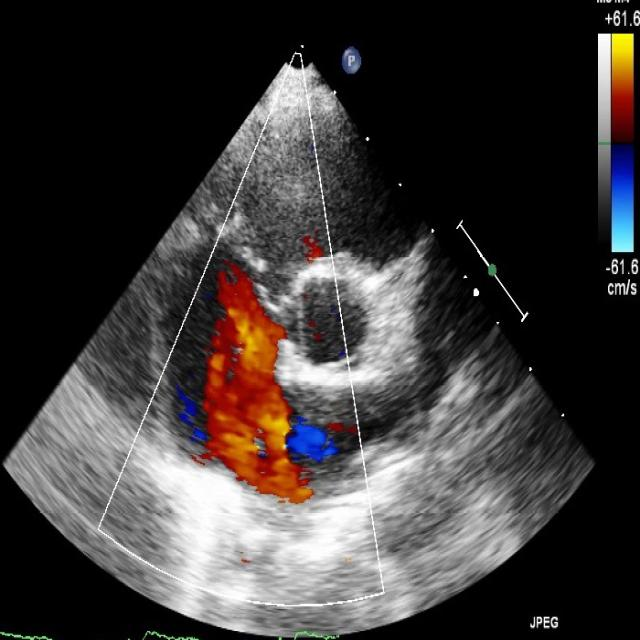ASDType2: (192, 344, 314, 506)
